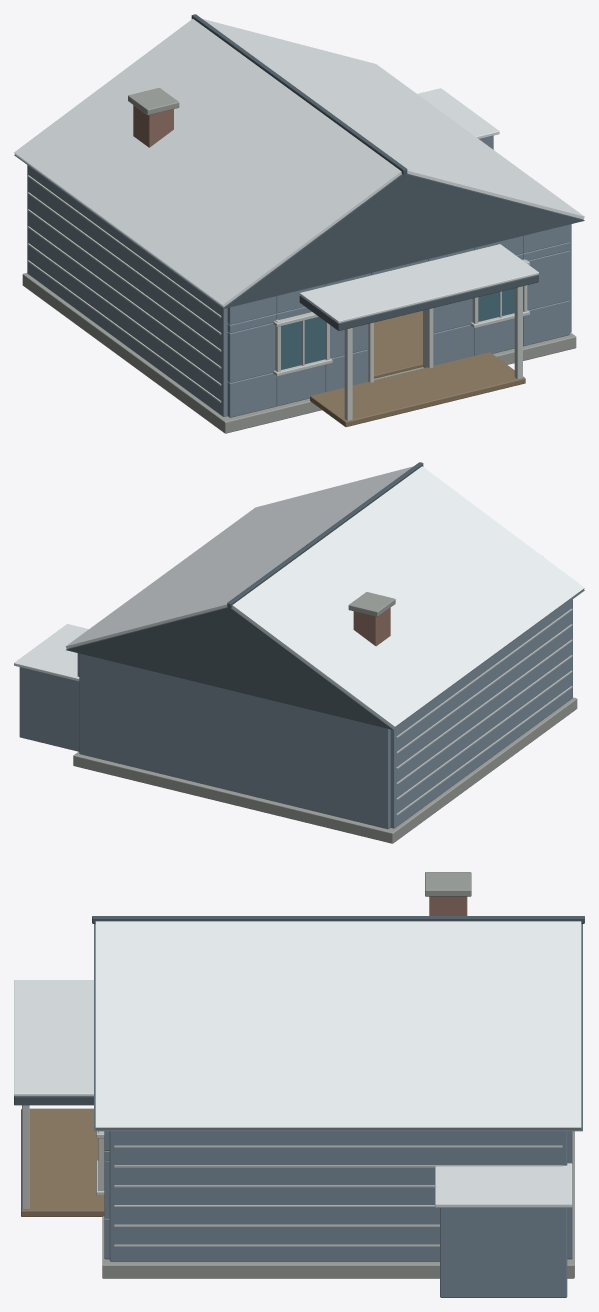
The model's file is house_gable_slate.glb.
3 renders of one model, top to bottom at view 1: azimuth 30°, elevation 25°; view 2: azimuth 150°, elevation 25°; view 3: azimuth 270°, elevation 25°, orthographic. The views are drawn at different scales.
Visible parts, largest first — view 1: house_gable_slate; view 2: house_gable_slate; view 3: house_gable_slate.
Boxes of the visible parts, left/top/right/bottom form: house_gable_slate: left=14, top=14, right=584, bottom=433; house_gable_slate: left=14, top=462, right=584, bottom=843; house_gable_slate: left=14, top=872, right=584, bottom=1297.
Size of the model in its own units: 11.19 by 5.69 by 11.23.
